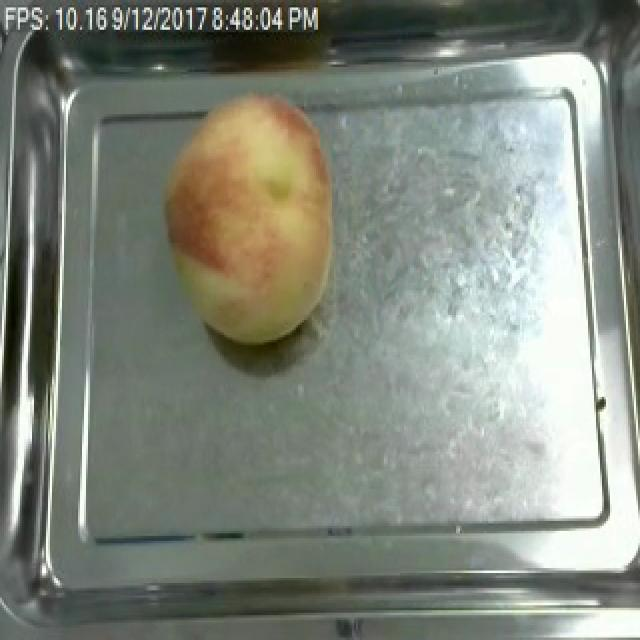Fruit: (156, 85, 346, 352)
